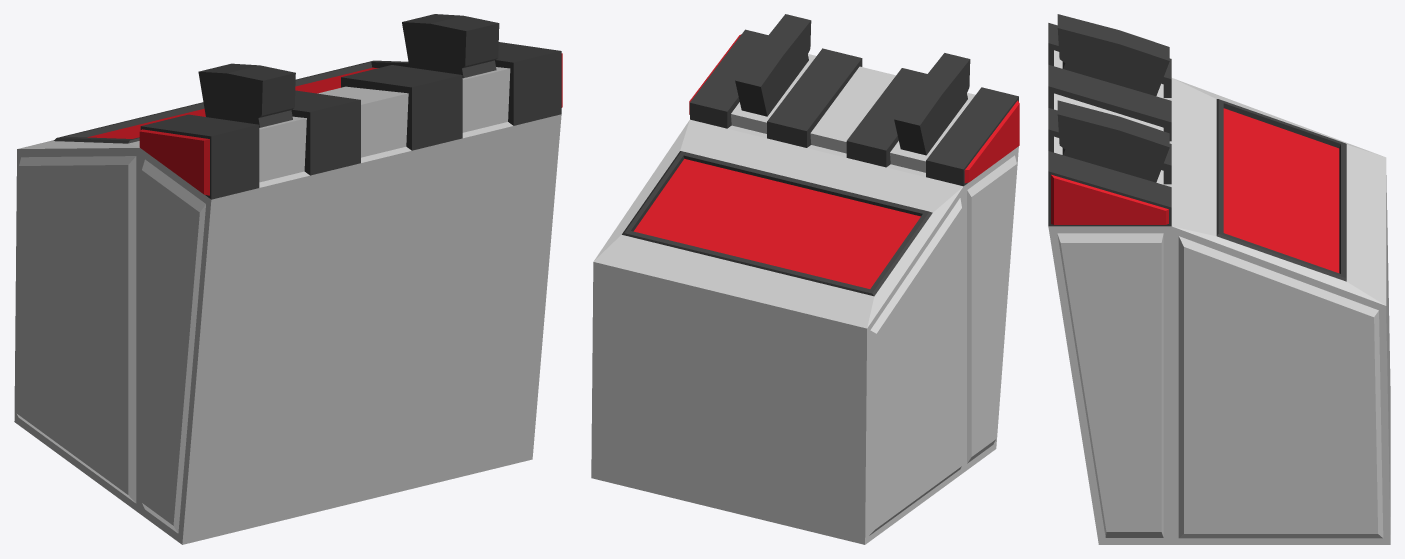
The model's file is spiderHead.Rotated.fbx.
3 renders of one model, left to right at view 1: azimuth 30°, elevation 25°; view 2: azimuth 150°, elevation 25°; view 3: azimuth 270°, elevation 25°, orthographic. The views are drawn at different scales.
Visible parts, largest first — view 1: head; view 2: head; view 3: head.
Boxes of the visible parts, x1,y1,x2,y2 form: head: [14, 14, 562, 544]; head: [591, 14, 1019, 544]; head: [1048, 14, 1390, 544].
Size of the model in its own units: 412 by 510 by 389.
